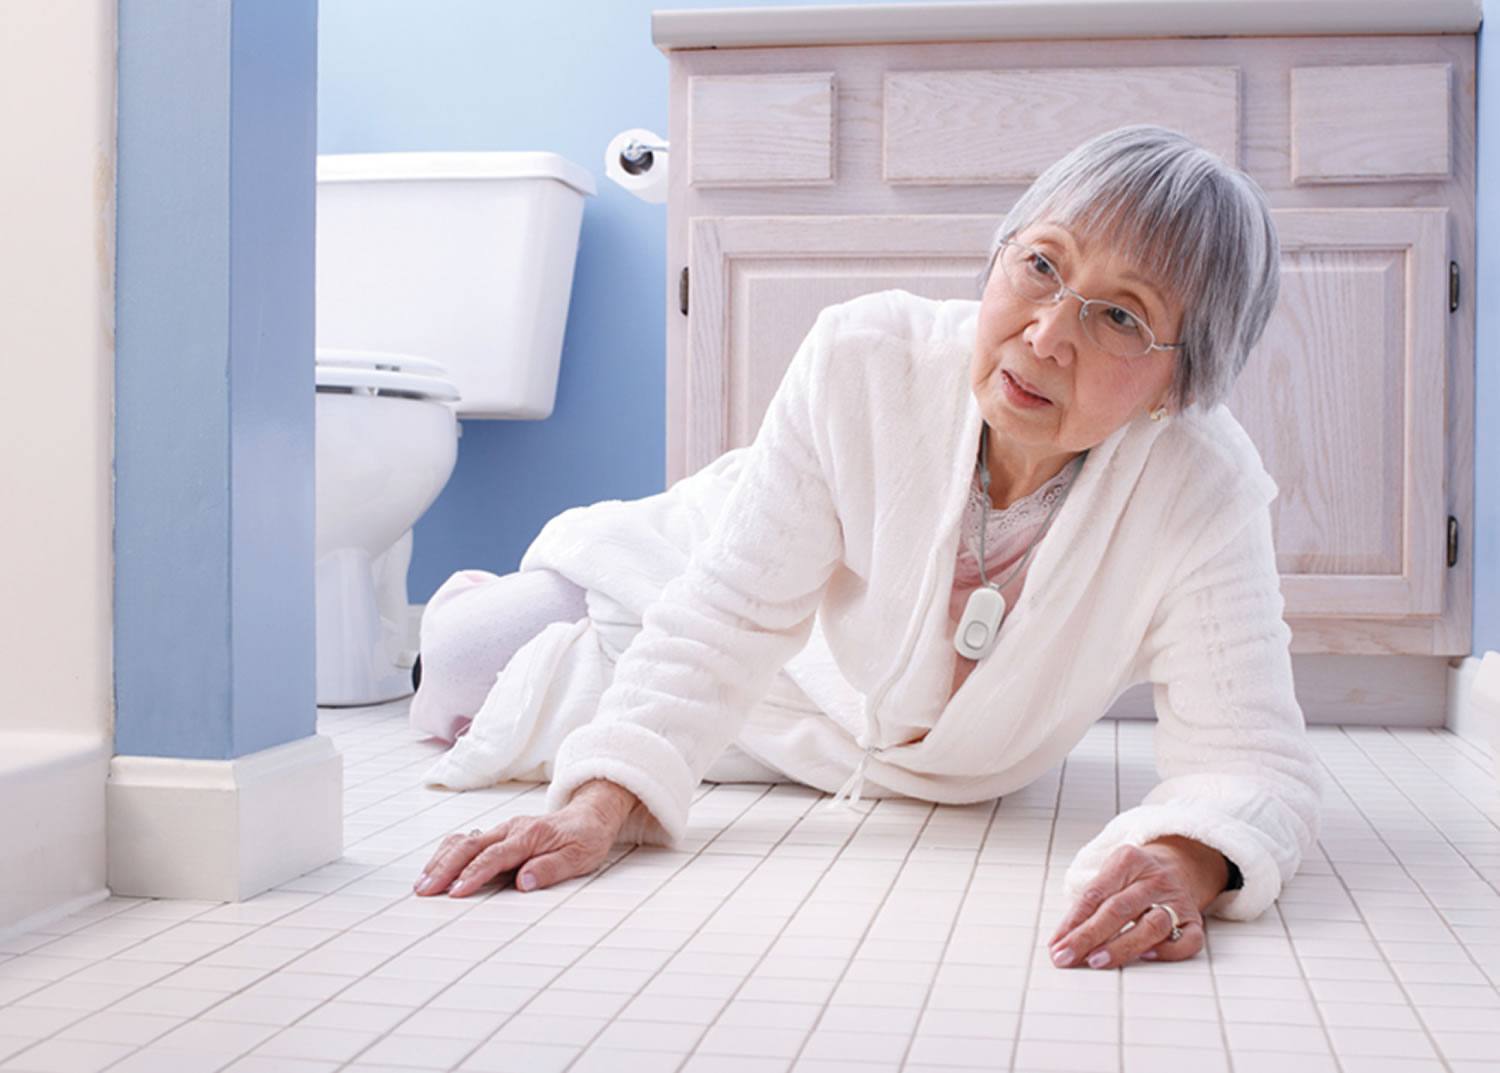collapsed: (349, 143, 1500, 968)
